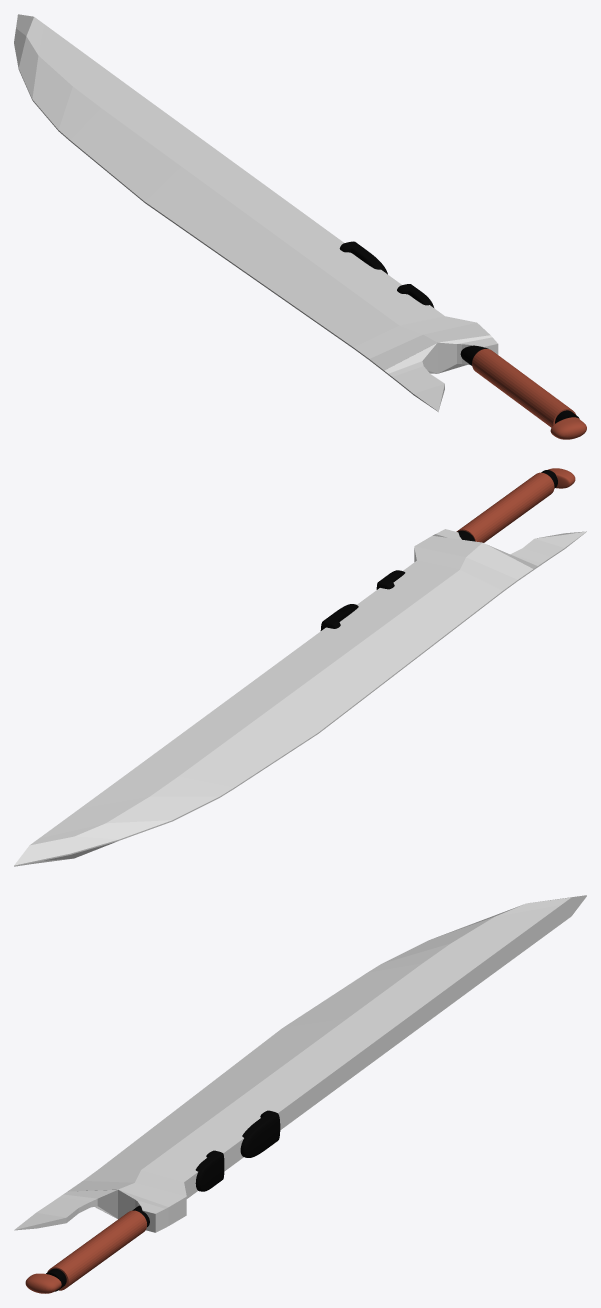
Rendered from BIGsword.fbx.
3 renders of one model, top to bottom at view 1: azimuth 30°, elevation 25°; view 2: azimuth 150°, elevation 25°; view 3: azimuth 330°, elevation 25°, orthographic. The views are drawn at different scales.
Parts seen in each view (by area): view 1: Cube, Cylinder, Cube.001; view 2: Cube, Cylinder; view 3: Cube, Cylinder, Cube.003, Cube.002, Cube.001.
Boxes of the visible parts, left/top/right/bottom form: Cube: left=14, top=14, right=498, bottom=411; Cylinder: left=472, top=348, right=575, bottom=427; Cube.001: left=550, top=417, right=586, bottom=439; Cube: left=14, top=529, right=586, bottom=866; Cylinder: left=456, top=472, right=554, bottom=542; Cube: left=14, top=895, right=586, bottom=1232; Cylinder: left=47, top=1210, right=146, bottom=1290; Cube.003: left=240, top=1110, right=280, bottom=1157; Cube.002: left=195, top=1150, right=224, bottom=1191; Cube.001: left=25, top=1273, right=61, bottom=1293.
Bounding box in the file's own units: 41.92 × 10.82 × 357.
